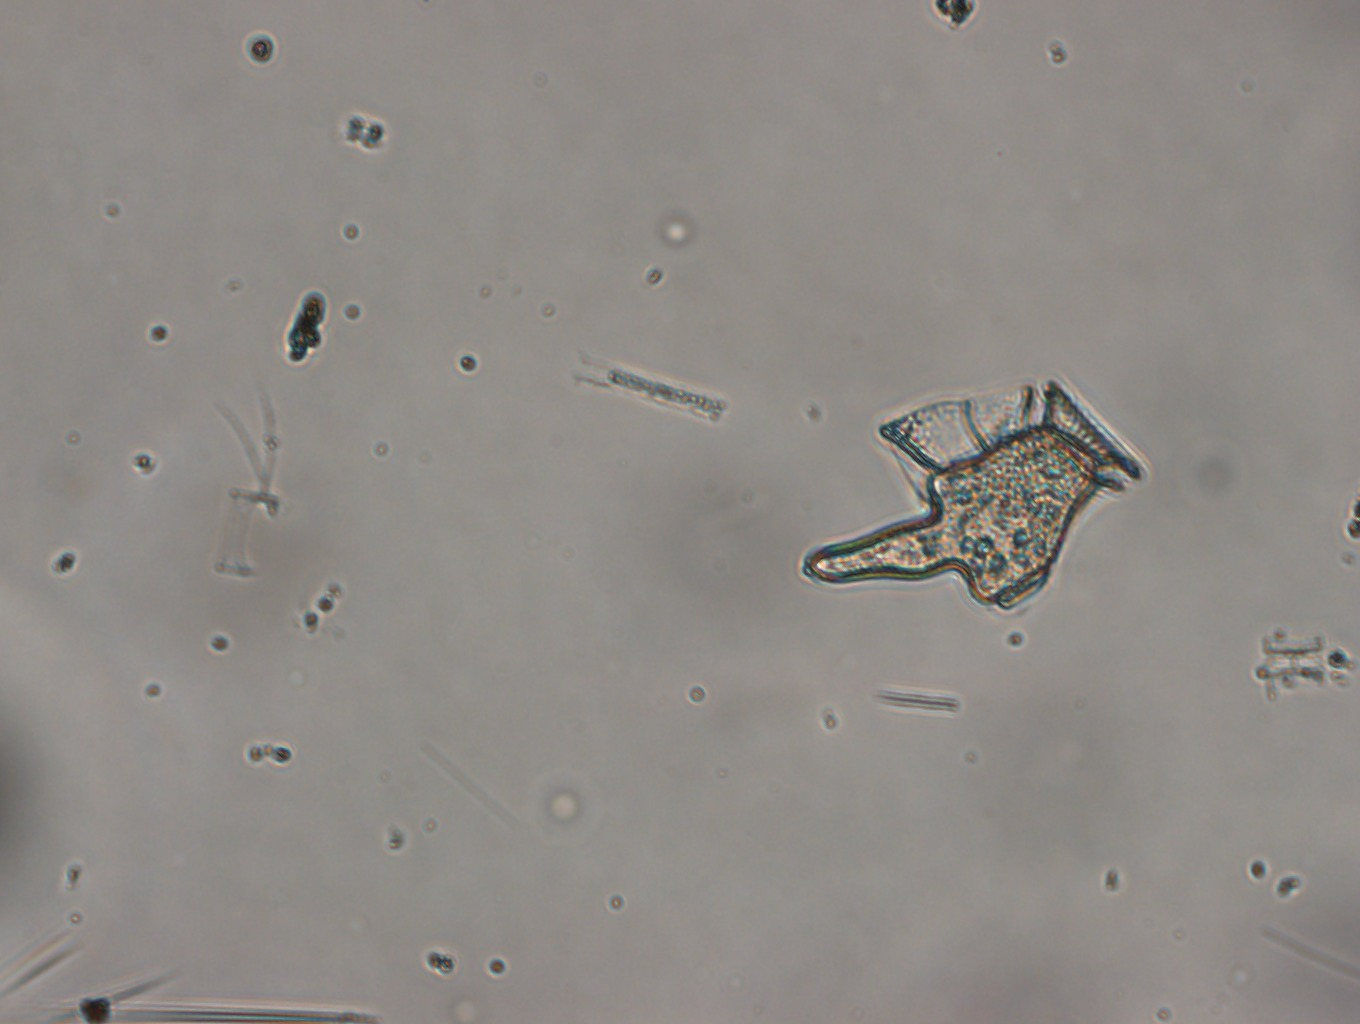dinophysis caudata: (794, 378, 1165, 620)
